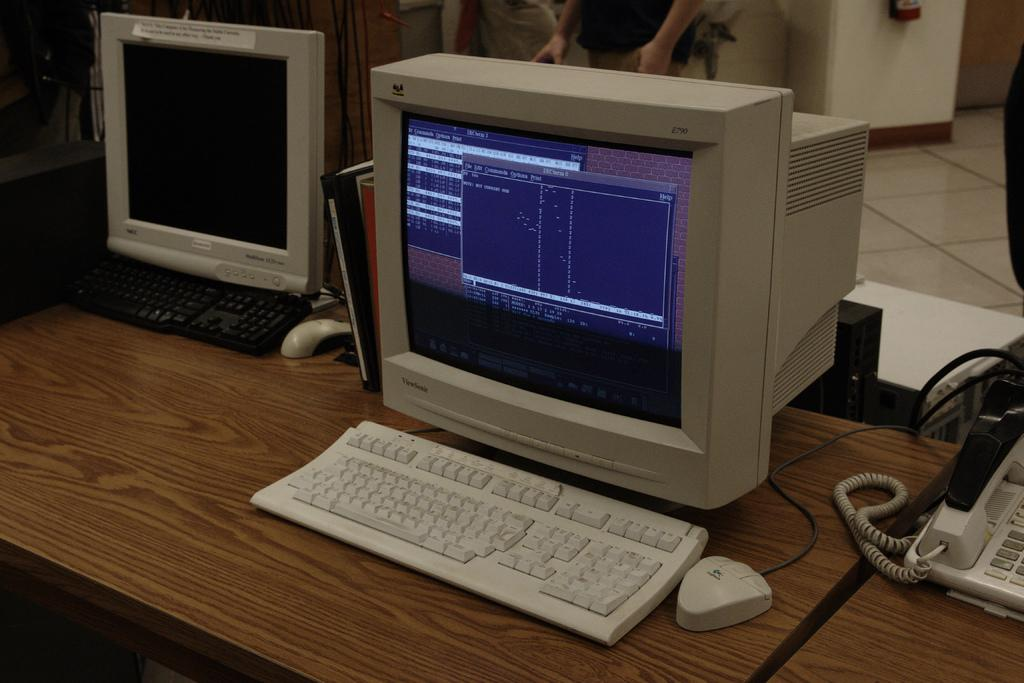Computer-keyboard: (246, 420, 711, 646), (56, 257, 312, 357)
Computer-monitor: (355, 62, 852, 516), (97, 8, 333, 302)
